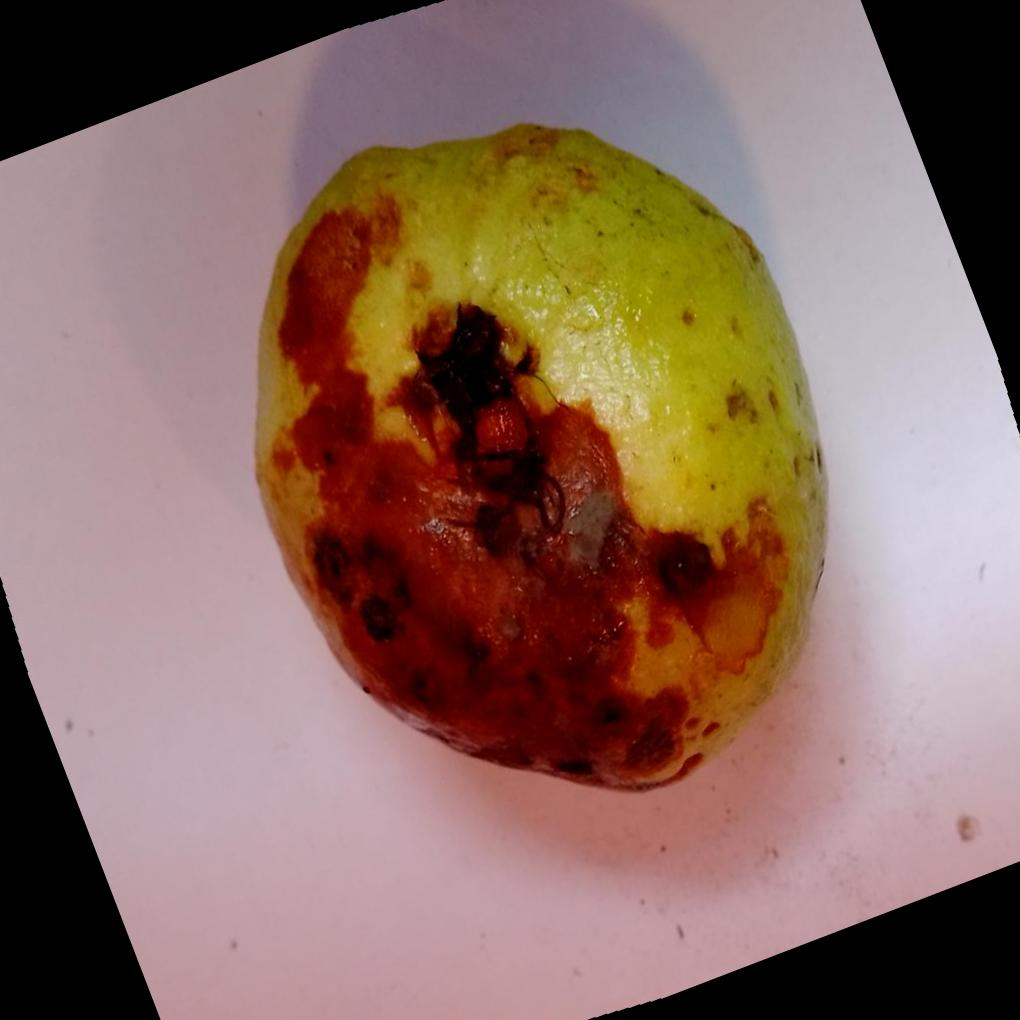FreshOrange: (250, 116, 827, 790)
